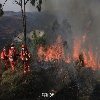fire: (73, 21, 100, 70), (37, 35, 72, 64)
